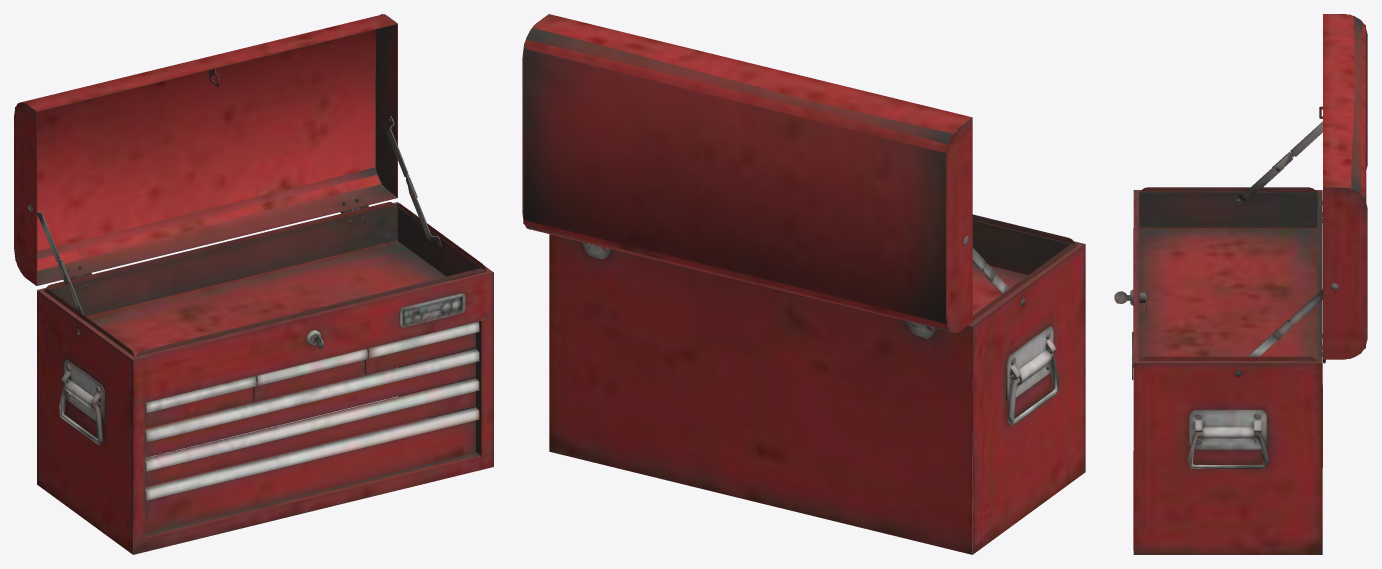
Rendered from ph_metal_tool_chest.glb.
The picture shows the model from 3 angles, left to right: view 1: azimuth 30°, elevation 25°; view 2: azimuth 150°, elevation 25°; view 3: azimuth 270°, elevation 25°; orthographic projection. The views are drawn at different scales.
Parts seen in each view (by area): view 1: metal_tool_chest_chest; view 2: metal_tool_chest_chest; view 3: metal_tool_chest_chest.
Boxes of the visible parts, x1,y1,x2,y2 form: metal_tool_chest_chest: (14,14,493,554); metal_tool_chest_chest: (522,14,1085,554); metal_tool_chest_chest: (1114,14,1367,554).
Size of the model in its own units: 0.6854 by 0.6518 by 0.4072.
1 material, 1 textured.
